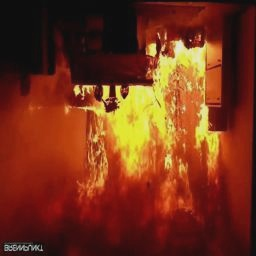fire: (64, 32, 227, 229)
